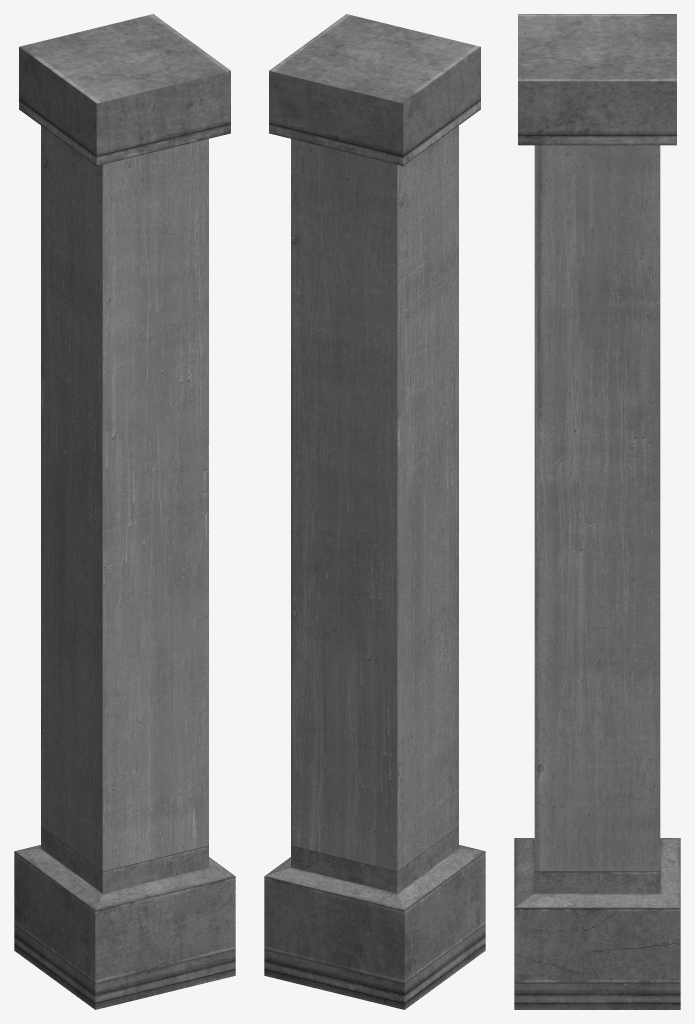
The model's file is HH_Hospital_Column_01.fbx.
3 renders of one model, left to right at view 1: azimuth 30°, elevation 25°; view 2: azimuth 150°, elevation 25°; view 3: azimuth 270°, elevation 25°, orthographic. The views are drawn at different scales.
Visible parts, largest first — view 1: HH_Hospital_Column_01; view 2: HH_Hospital_Column_01; view 3: HH_Hospital_Column_01.
Boxes of the visible parts, x1,y1,x2,y2 form: HH_Hospital_Column_01: (14,14,235,1009); HH_Hospital_Column_01: (264,14,485,1009); HH_Hospital_Column_01: (514,14,680,1009).
Bounding box in the file's own units: 81.18 × 500 × 81.18.
